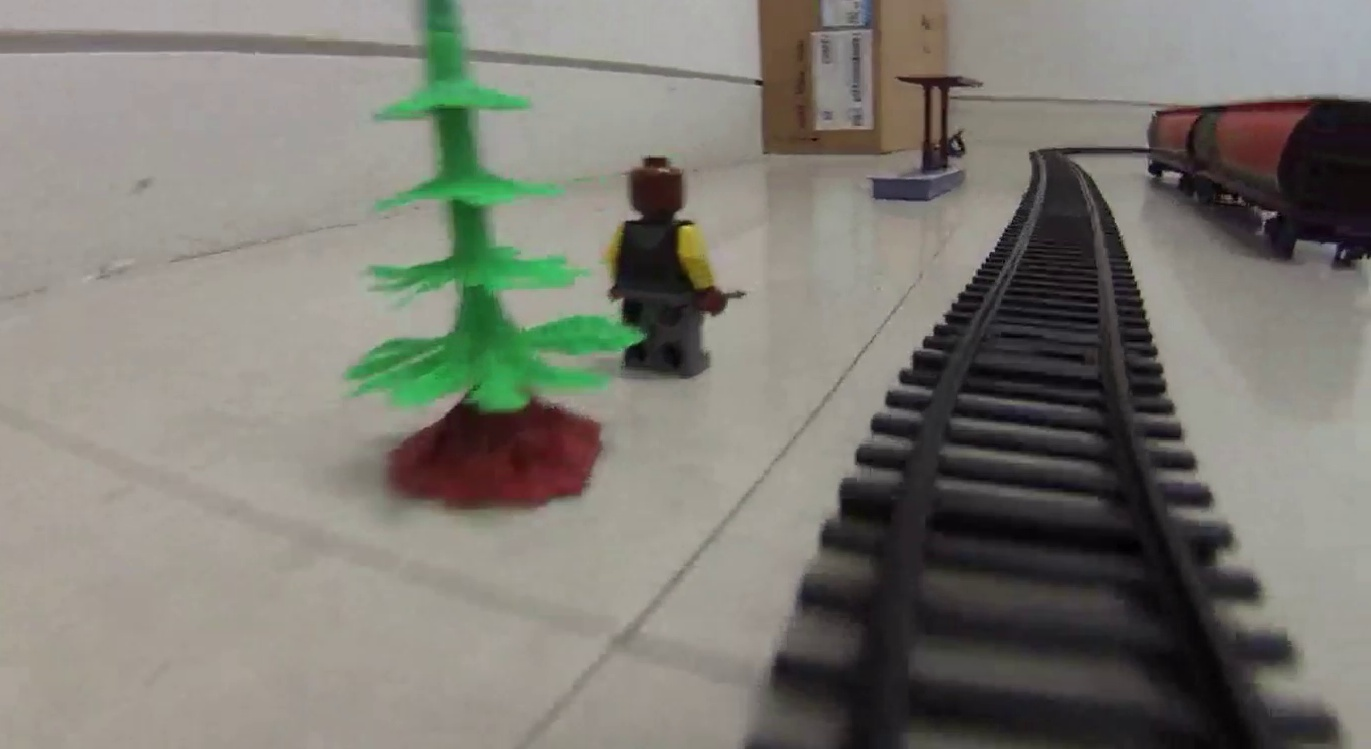people: (611, 156, 721, 378)
tree: (343, 1, 616, 510)
